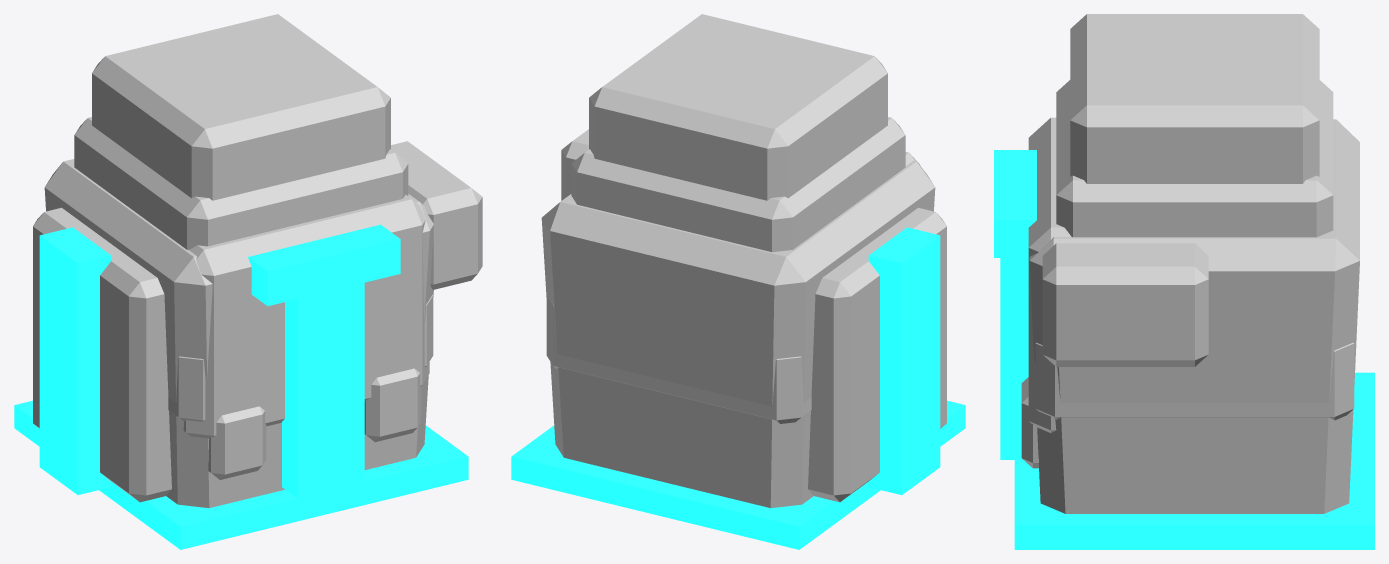
The model's file is arm.R.cyber.glb.
3 views of the same model, side by side, from view 1: azimuth 30°, elevation 25°; view 2: azimuth 150°, elevation 25°; view 3: azimuth 270°, elevation 25° (orthographic). The views are drawn at different scales.
Visible parts, largest first — view 1: forearm.R@cyber.base, forearm.R@cyber.emissive.cyan, hand.R@cyber.base, arm.R@cyber.base, hand.R@cyber.emissive.cyan; view 2: forearm.R@cyber.base, forearm.R@cyber.emissive.cyan, arm.R@cyber.base, hand.R@cyber.base; view 3: forearm.R@cyber.base, hand.R@cyber.base, arm.R@cyber.base, forearm.R@cyber.emissive.cyan, hand.R@cyber.emissive.cyan.
Part boxes in pixels (bbox=[...]): forearm.R@cyber.base: bbox=[33, 14, 434, 508]; forearm.R@cyber.emissive.cyan: bbox=[14, 227, 468, 549]; hand.R@cyber.base: bbox=[183, 141, 482, 479]; arm.R@cyber.base: bbox=[74, 117, 433, 421]; hand.R@cyber.emissive.cyan: bbox=[248, 224, 400, 305]; forearm.R@cyber.base: bbox=[541, 14, 946, 508]; forearm.R@cyber.emissive.cyan: bbox=[511, 227, 965, 549]; arm.R@cyber.base: bbox=[546, 117, 905, 423]; hand.R@cyber.base: bbox=[561, 129, 921, 200]; forearm.R@cyber.base: bbox=[1029, 14, 1359, 513]; hand.R@cyber.base: bbox=[1021, 117, 1208, 468]; arm.R@cyber.base: bbox=[1035, 80, 1354, 420]; forearm.R@cyber.emissive.cyan: bbox=[1000, 258, 1374, 549]; hand.R@cyber.emissive.cyan: bbox=[994, 150, 1036, 257].
Bounding box in the file's own units: 0.325 × 0.335 × 0.275.
